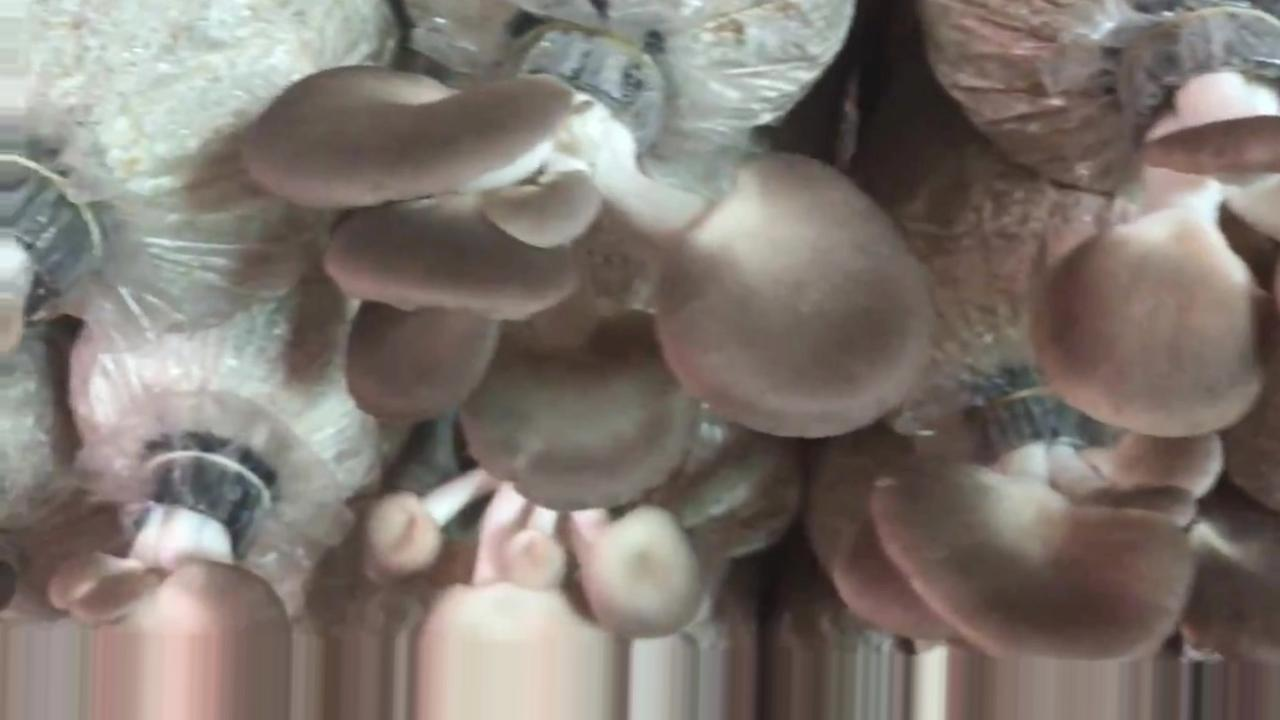nam: (245, 24, 930, 506), (875, 400, 1280, 663), (1039, 10, 1280, 432), (369, 470, 702, 720), (47, 438, 295, 720)
